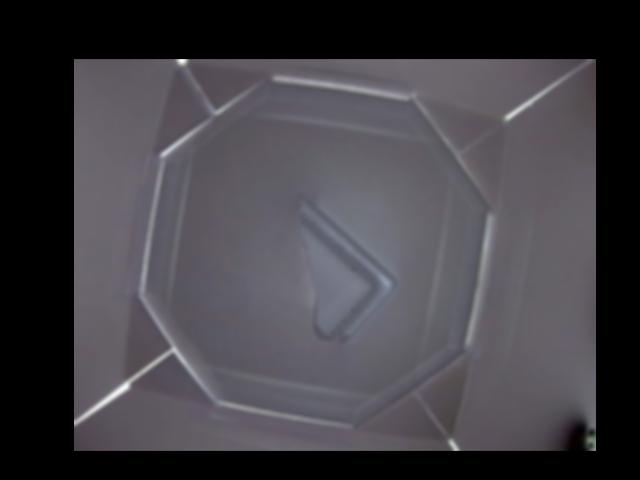China: (298, 194, 394, 341)
